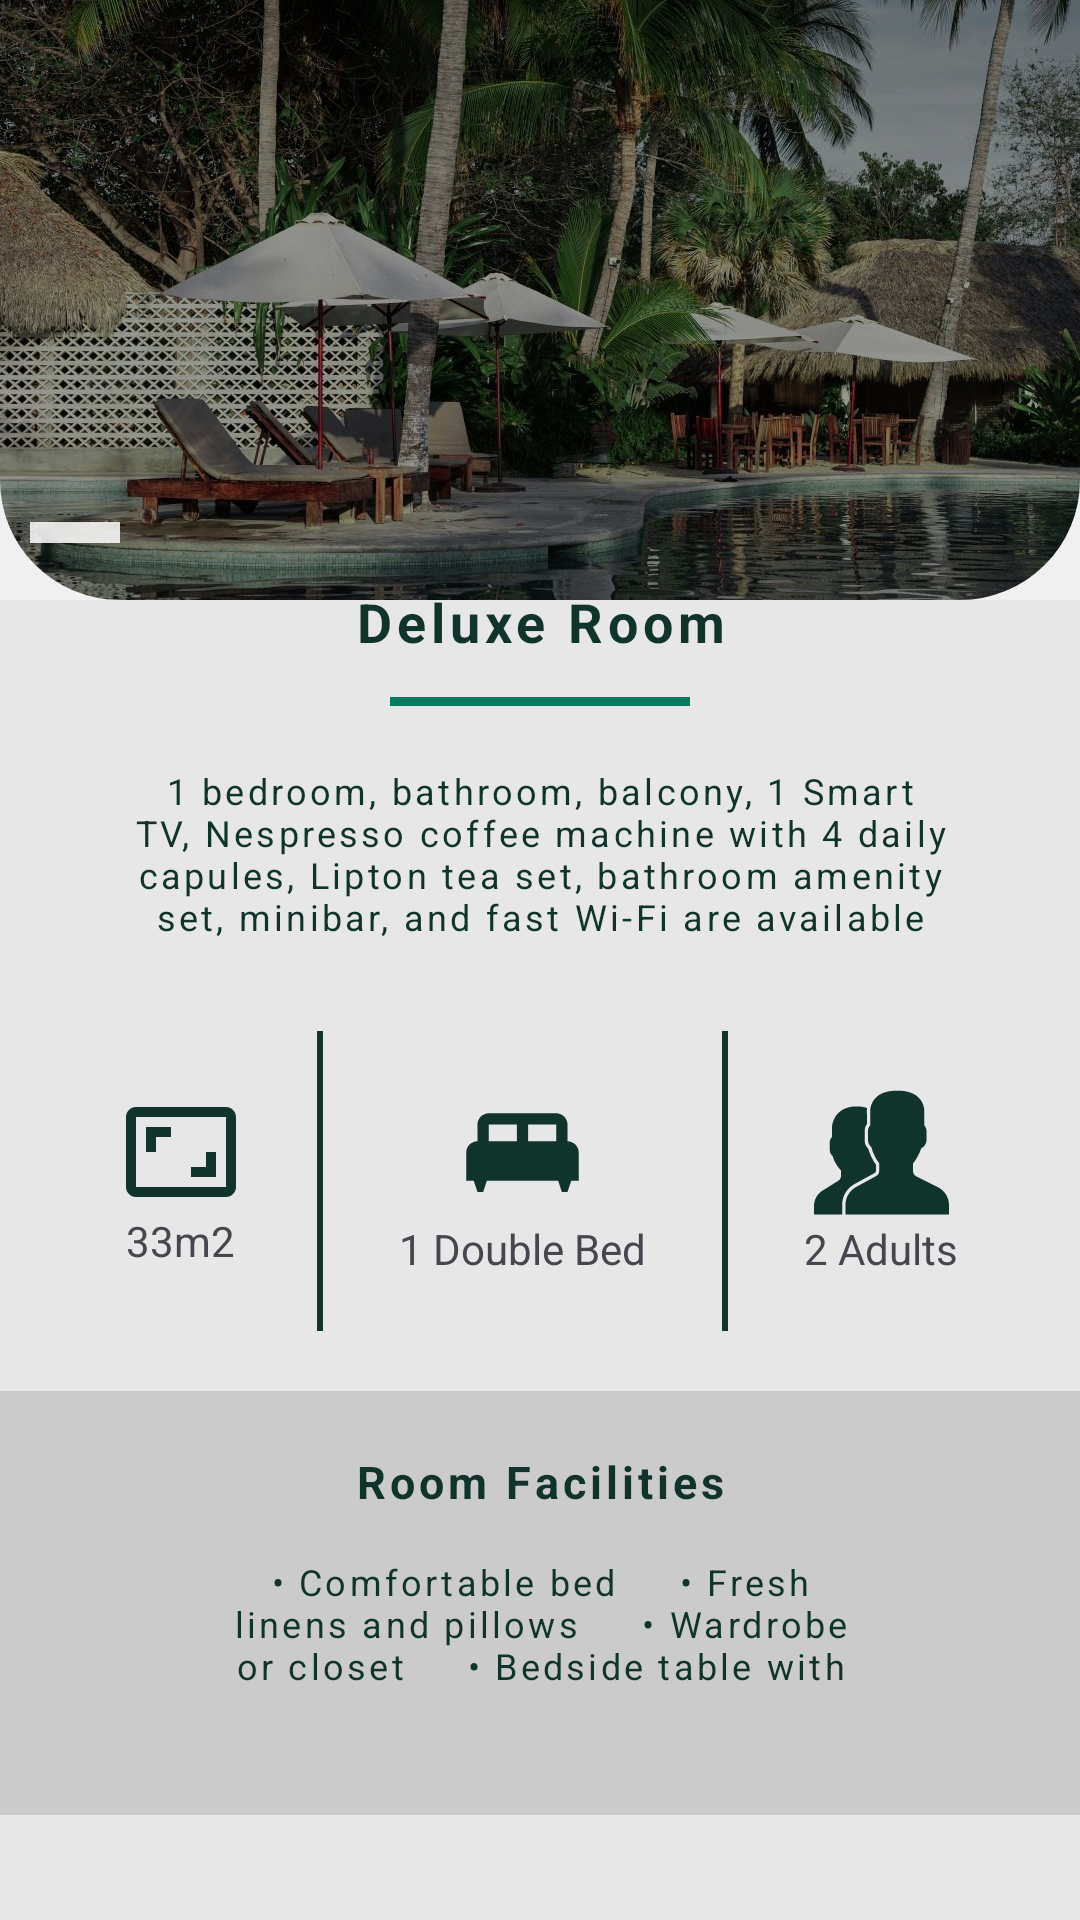

Screen size 1080w x 1920h. Icon name, then its center in pixels as point (x, y):
dimensions: point (181, 1152)
users: point (881, 1152)
